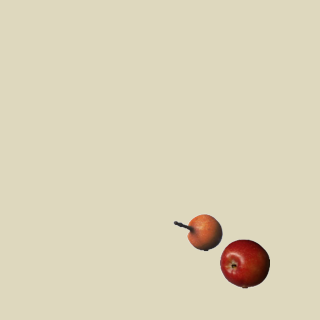Apple Braeburn: (219, 238, 269, 288)
Granadilla: (172, 207, 222, 257)
